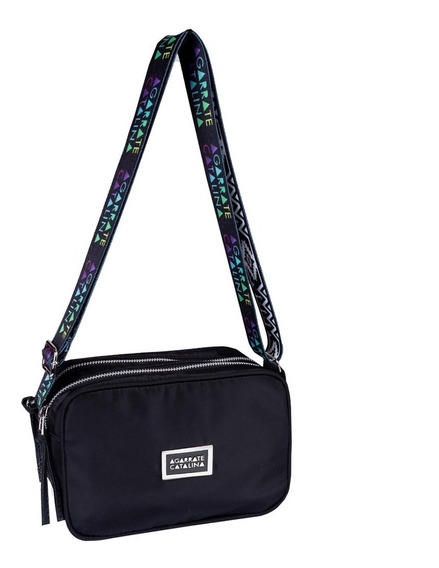cartera: (20, 28, 293, 542)
